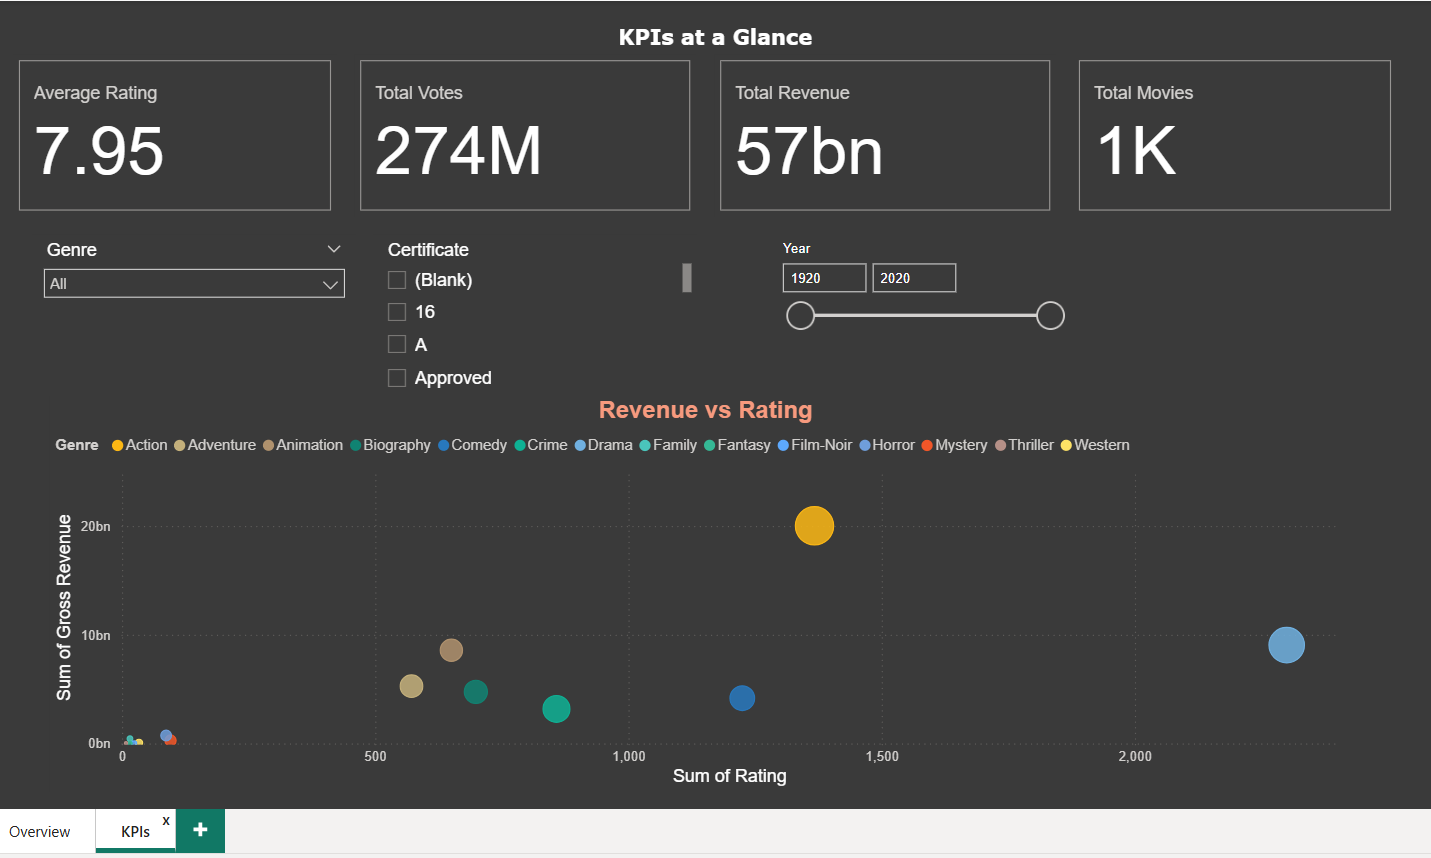

The page's visual inventory and layout, read from the dashboard file:
{"tool":"powerbi","page":{"name":"KPIs","canvas":[1280,720],"ordinal":1},"visuals":[{"type":"cardVisual","fields":{"Data":["Avg(current.Rating)"]},"box":[16,48,288,144],"z":0},{"type":"cardVisual","fields":{"Data":["Sum(current.Votes)"]},"box":[320,48,304,144],"z":1000},{"type":"cardVisual","fields":{"Data":["Sum(current.Gross Revenue)"]},"box":[640,48,304,144],"z":1001},{"type":"cardVisual","fields":{"Data":["CountNonNull(current.Title)"]},"box":[960,48,288,144],"z":1002},{"type":"slicer","fields":{"Values":["current.Genre "]},"box":[32,208,288,144],"z":1003},{"type":"slicer","fields":{"Values":["current.Certificate"]},"box":[336,208,288,144],"z":1004},{"type":"slicer","fields":{"Values":["current.Year"]},"box":[688,208,272,144],"z":1005},{"type":"scatterChart","title":"Revenue vs Rating","fields":{"X":["Sum(current.Rating)"],"Y":["Sum(current.Gross Revenue)"],"Size":["Sum(current.Votes)"],"Series":["current.Genre "]},"box":[48,352,1168,352],"z":1006},{"type":"textbox","box":[496,16,288,32],"z":1007}]}

Visuals, with their boxes on the page's 1280x720 design canvas (x1, y1, x2, y2). These are canvas units, not pixel positions in the 1431x858 screenshot, which may show the page scaled, cropped or inside an application window:
cardVisual - Avg(current.Rating): (x1=16, y1=48, x2=304, y2=192)
cardVisual - Sum(current.Votes): (x1=320, y1=48, x2=624, y2=192)
cardVisual - Sum(current.Gross Revenue): (x1=640, y1=48, x2=944, y2=192)
cardVisual - CountNonNull(current.Title): (x1=960, y1=48, x2=1248, y2=192)
slicer - current.Genre : (x1=32, y1=208, x2=320, y2=352)
slicer - current.Certificate: (x1=336, y1=208, x2=624, y2=352)
slicer - current.Year: (x1=688, y1=208, x2=960, y2=352)
"Revenue vs Rating" scatterChart: (x1=48, y1=352, x2=1216, y2=704)
textbox: (x1=496, y1=16, x2=784, y2=48)
